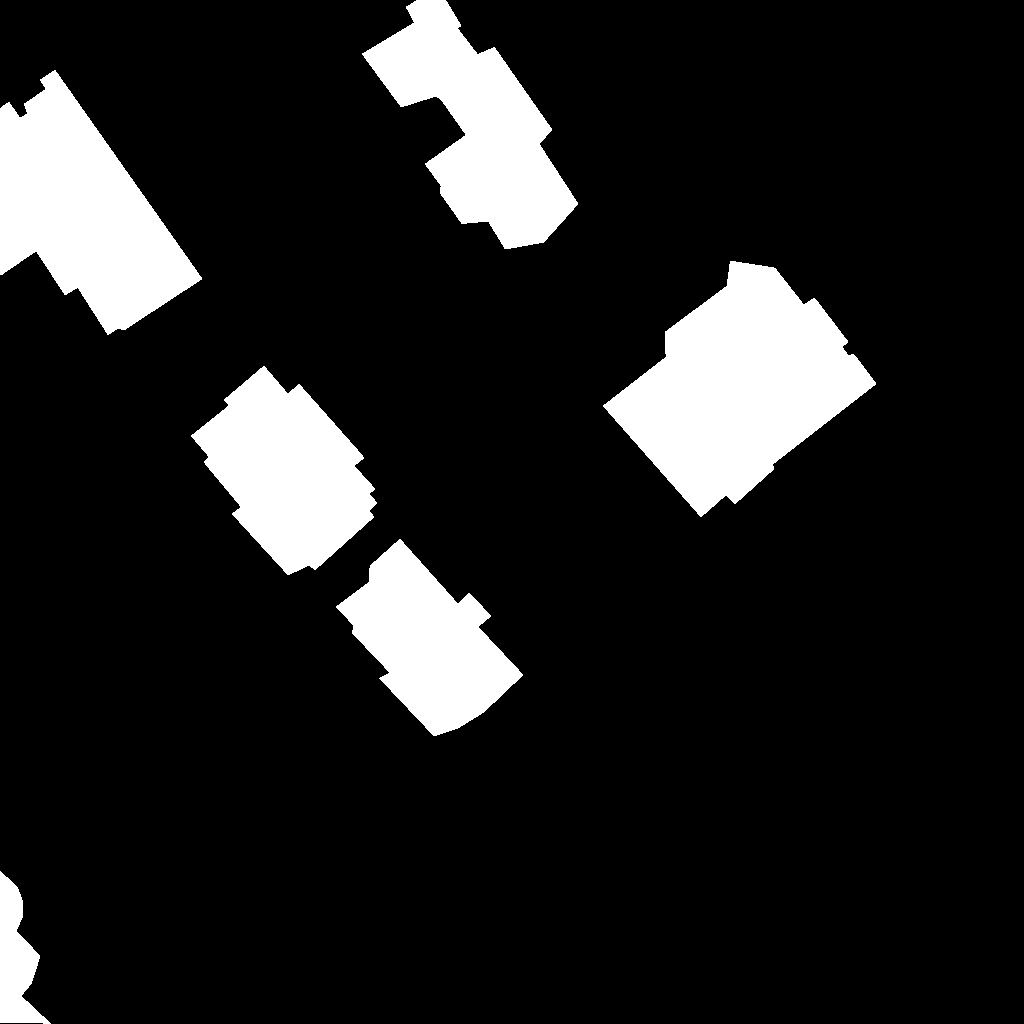building: (603, 261, 877, 518), (362, 0, 579, 250), (0, 70, 203, 336), (191, 366, 378, 576), (336, 539, 524, 737), (0, 871, 52, 1024)
